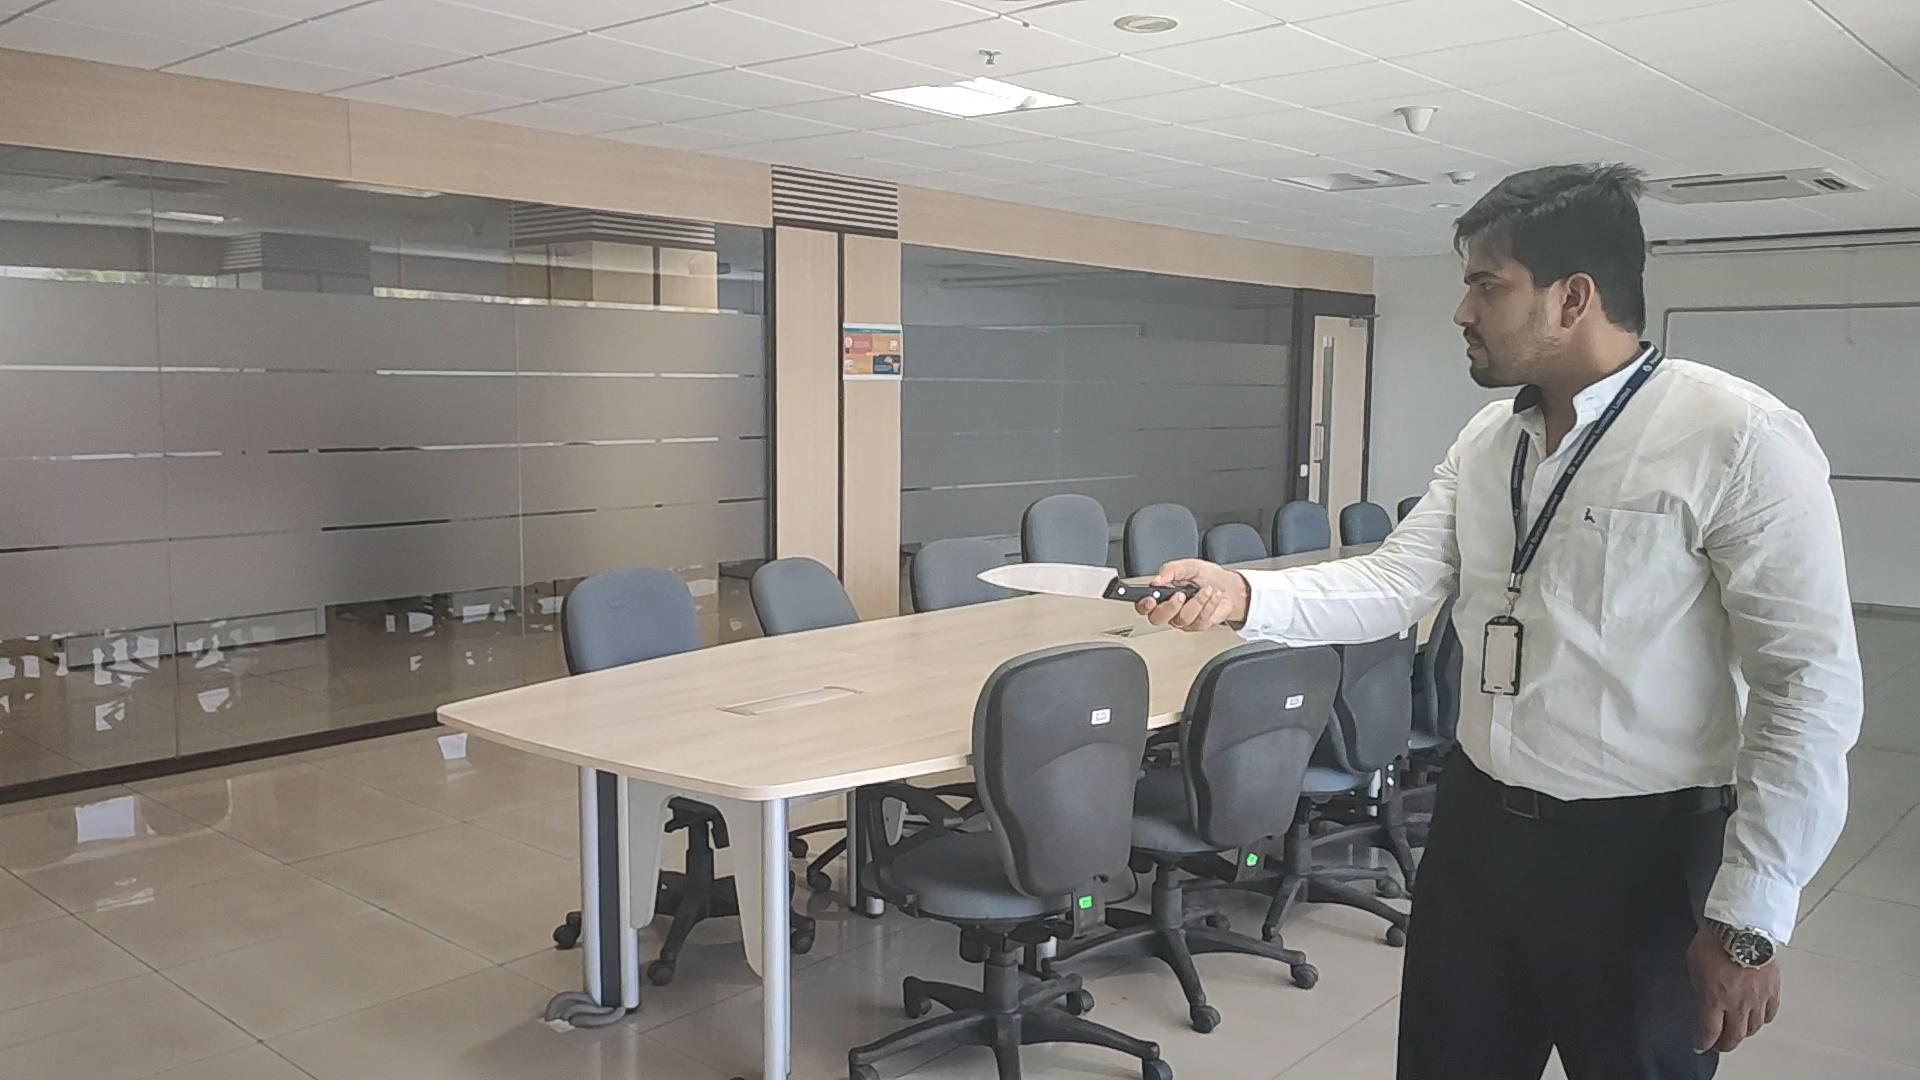knife: (978, 560, 1164, 612)
